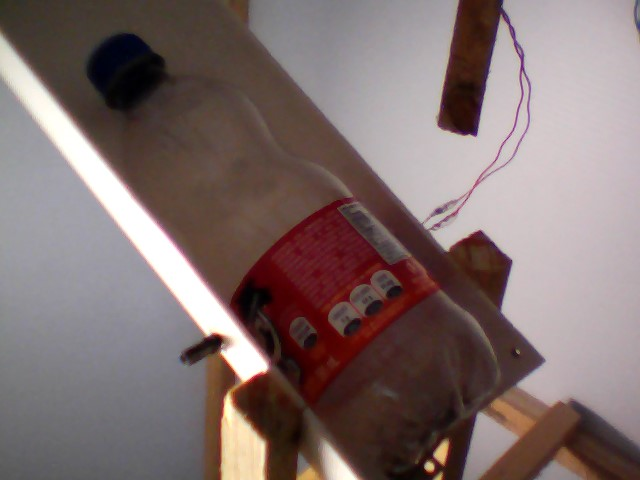plastico: (83, 31, 505, 478)
